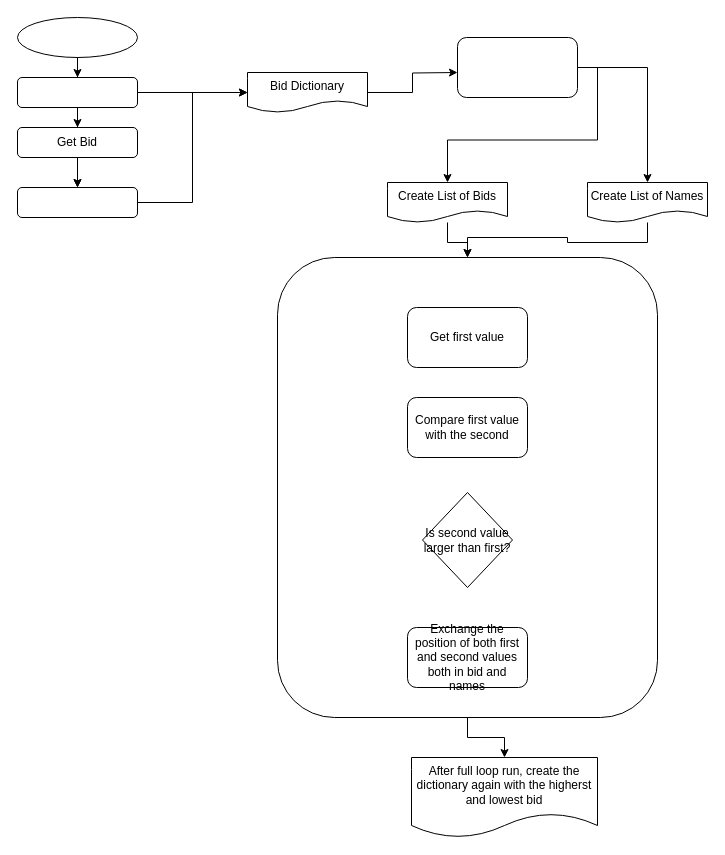
This 725x855 diagram has some shape labels left out. Each missing label, with the box of its shape:
Convert bid to int: (16, 186, 138, 218)
create for loop to loop through each value in the list: (276, 256, 658, 718)
Get Name: (16, 76, 138, 108)
Loop through each name and bid: (456, 36, 578, 98)
Welcome message: (16, 16, 138, 58)
